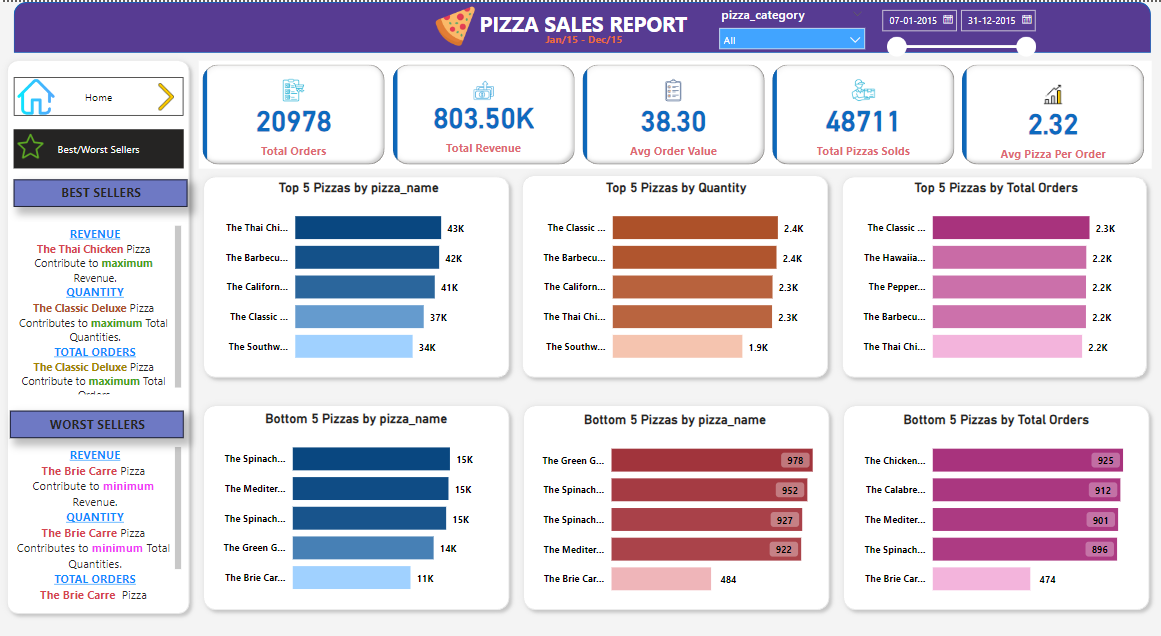

What the dashboard file says about the page in this screenshot:
{"tool":"powerbi","page":{"name":"Best/Worst Sellers","canvas":[1500,820],"ordinal":1},"visuals":[{"type":"cardVisual","fields":{"Data":["pizza_sales.Total Orders","pizza_sales.Total Revenue","pizza_sales.Avg Order Value","pizza_sales.Total Pizzas Solds","pizza_sales.Avg Pizza Per Order"]},"box":[256.2,76.6,1229.3,139.2],"z":0},{"type":"shape","box":[18.1,0,1467.4,65.4],"z":1000},{"type":"textbox","box":[587.5,4.2,331.3,58.5],"z":2000},{"type":"textbox","box":[698.9,33.4,119.7,32],"z":3000},{"type":"image","box":[536,0,104.4,62.6],"z":4000},{"type":"shape","box":[253.2,216.1,412.9,277.4],"z":5000},{"type":"shape","box":[0,65.4,253.4,732.3],"z":6000},{"type":"textbox","box":[17.7,229,224.2,35.5],"z":7000},{"type":"textbox","box":[14.5,283.9,224.2,227.4],"z":8000},{"type":"textbox","box":[14.5,569.4,224.2,211.3],"z":9000},{"type":"textbox","box":[12.9,527.4,224.2,35.5],"z":10000},{"type":"slicer","fields":{"Values":["pizza_sales.pizza_category"]},"box":[917.7,0,208.1,66.1],"z":11000},{"type":"slicer","fields":{"Values":["pizza_sales.order_date"]},"box":[1125.8,0,219.4,75.8],"z":12000},{"type":"shape","box":[1077.4,216.1,411.3,277.4],"z":13000},{"type":"shape","box":[664.5,214.5,412.9,279],"z":14000},{"type":"shape","box":[253.2,511.3,412.9,282.3],"z":15000},{"type":"shape","box":[666.1,511.3,412.9,282.3],"z":16000},{"type":"shape","box":[1079,511.3,412.9,282.3],"z":17000},{"type":"barChart","title":"Top 5 Pizzas by pizza_name","fields":{"Category":["pizza_sales.pizza_name"],"Y":["pizza_sales.Total Revenue"]},"box":[274.2,229,377.4,251.6],"z":18000},{"type":"barChart","title":"Bottom 5 Pizzas by pizza_name","fields":{"Category":["pizza_sales.pizza_name"],"Y":["pizza_sales.Total Revenue"]},"box":[271,527.4,377.4,251.6],"z":19000},{"type":"barChart","title":"Top 5 Pizzas by Quantity","fields":{"Category":["pizza_sales.pizza_name"],"Y":["Sum(pizza_sales.quantity)"]},"box":[683.9,229,377.4,251.6],"z":20000},{"type":"barChart","title":"Bottom 5 Pizzas by pizza_name","fields":{"Category":["pizza_sales.pizza_name"],"Y":["Sum(pizza_sales.quantity)"]},"box":[682.3,529,377.4,251.6],"z":21000},{"type":"barChart","title":"Top 5 Pizzas by Total Orders","fields":{"Category":["pizza_sales.pizza_name"],"Y":["pizza_sales.Total Orders"]},"box":[1096.8,229,377.4,251.6],"z":22000},{"type":"barChart","title":"Bottom 5 Pizzas by Total Orders","fields":{"Category":["pizza_sales.pizza_name"],"Y":["pizza_sales.Total Orders"]},"box":[1096.8,529,377.4,251.6],"z":23000},{"type":"pageNavigator","box":[17.7,96.8,219.4,50],"z":24000},{"type":"pageNavigator","box":[17.7,164.5,219.4,50],"z":25000},{"type":"image","box":[191.9,93.5,45.2,58.1],"z":26000},{"type":"image","box":[17.7,93.5,58.1,58.1],"z":27000},{"type":"image","box":[17.7,158.1,43.5,56.5],"z":27001}]}

Visuals, with their boxes in screenshot pixels (x1, y1, x2, y2), scaled from the page's 1500x820 canvas onto the 1161x636 screenshot:
cardVisual - pizza_sales.Total Orders x pizza_sales.Total Revenue: bbox=(198, 59, 1150, 167)
shape: bbox=(14, 0, 1150, 51)
textbox: bbox=(455, 3, 711, 49)
textbox: bbox=(541, 26, 634, 51)
image: bbox=(415, 0, 496, 49)
shape: bbox=(196, 168, 516, 383)
shape: bbox=(0, 51, 196, 619)
textbox: bbox=(14, 178, 187, 205)
textbox: bbox=(11, 220, 185, 397)
textbox: bbox=(11, 442, 185, 606)
textbox: bbox=(10, 409, 184, 437)
slicer - pizza_sales.pizza_category: bbox=(710, 0, 871, 51)
slicer - pizza_sales.order_date: bbox=(871, 0, 1041, 59)
shape: bbox=(834, 168, 1152, 383)
shape: bbox=(514, 166, 834, 383)
shape: bbox=(196, 397, 516, 616)
shape: bbox=(516, 397, 835, 616)
shape: bbox=(835, 397, 1155, 616)
"Top 5 Pizzas by pizza_name" barChart: bbox=(212, 178, 504, 373)
"Bottom 5 Pizzas by pizza_name" barChart: bbox=(210, 409, 502, 604)
"Top 5 Pizzas by Quantity" barChart: bbox=(529, 178, 821, 373)
"Bottom 5 Pizzas by pizza_name" barChart: bbox=(528, 410, 820, 605)
"Top 5 Pizzas by Total Orders" barChart: bbox=(849, 178, 1141, 373)
"Bottom 5 Pizzas by Total Orders" barChart: bbox=(849, 410, 1141, 605)
pageNavigator: bbox=(14, 75, 184, 114)
pageNavigator: bbox=(14, 128, 184, 166)
image: bbox=(149, 73, 184, 118)
image: bbox=(14, 73, 59, 118)
image: bbox=(14, 123, 47, 166)
